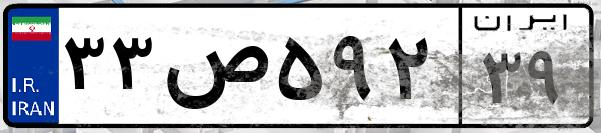2: (385, 28, 445, 110)
3: (57, 26, 110, 100), (475, 38, 525, 113), (110, 28, 158, 98)
5: (270, 28, 330, 110)
9: (330, 28, 385, 110), (525, 38, 570, 115)
ص: (158, 20, 270, 120)
